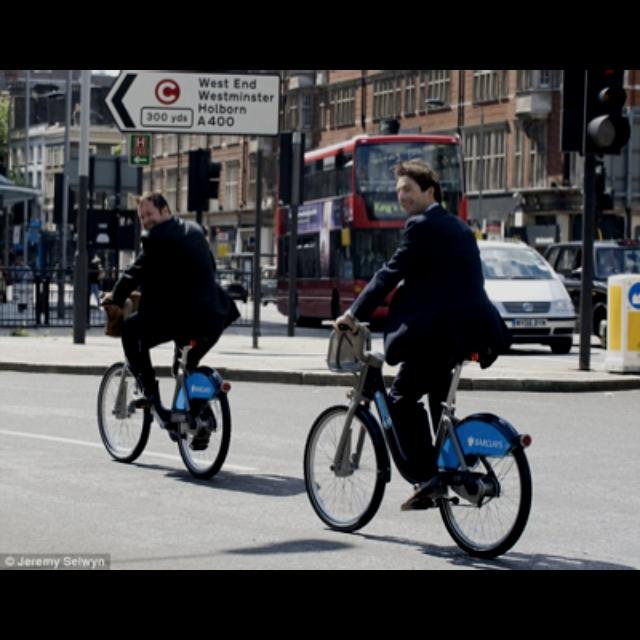Without Helmet: (384, 153, 446, 214), (132, 183, 184, 233)
